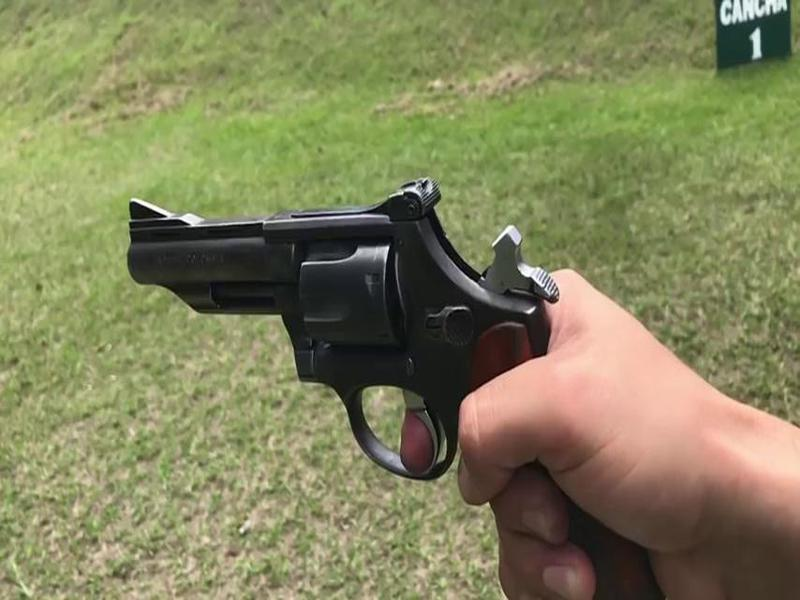Revolver: (112, 176, 561, 507)
